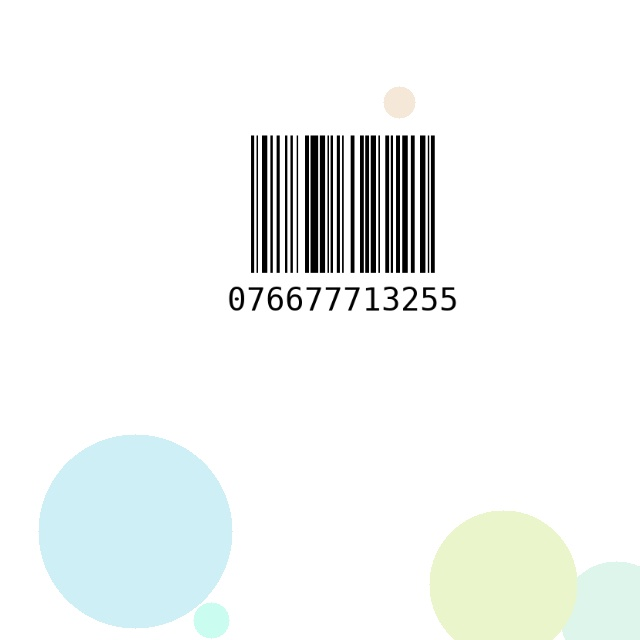barcode: (228, 127, 458, 343)
